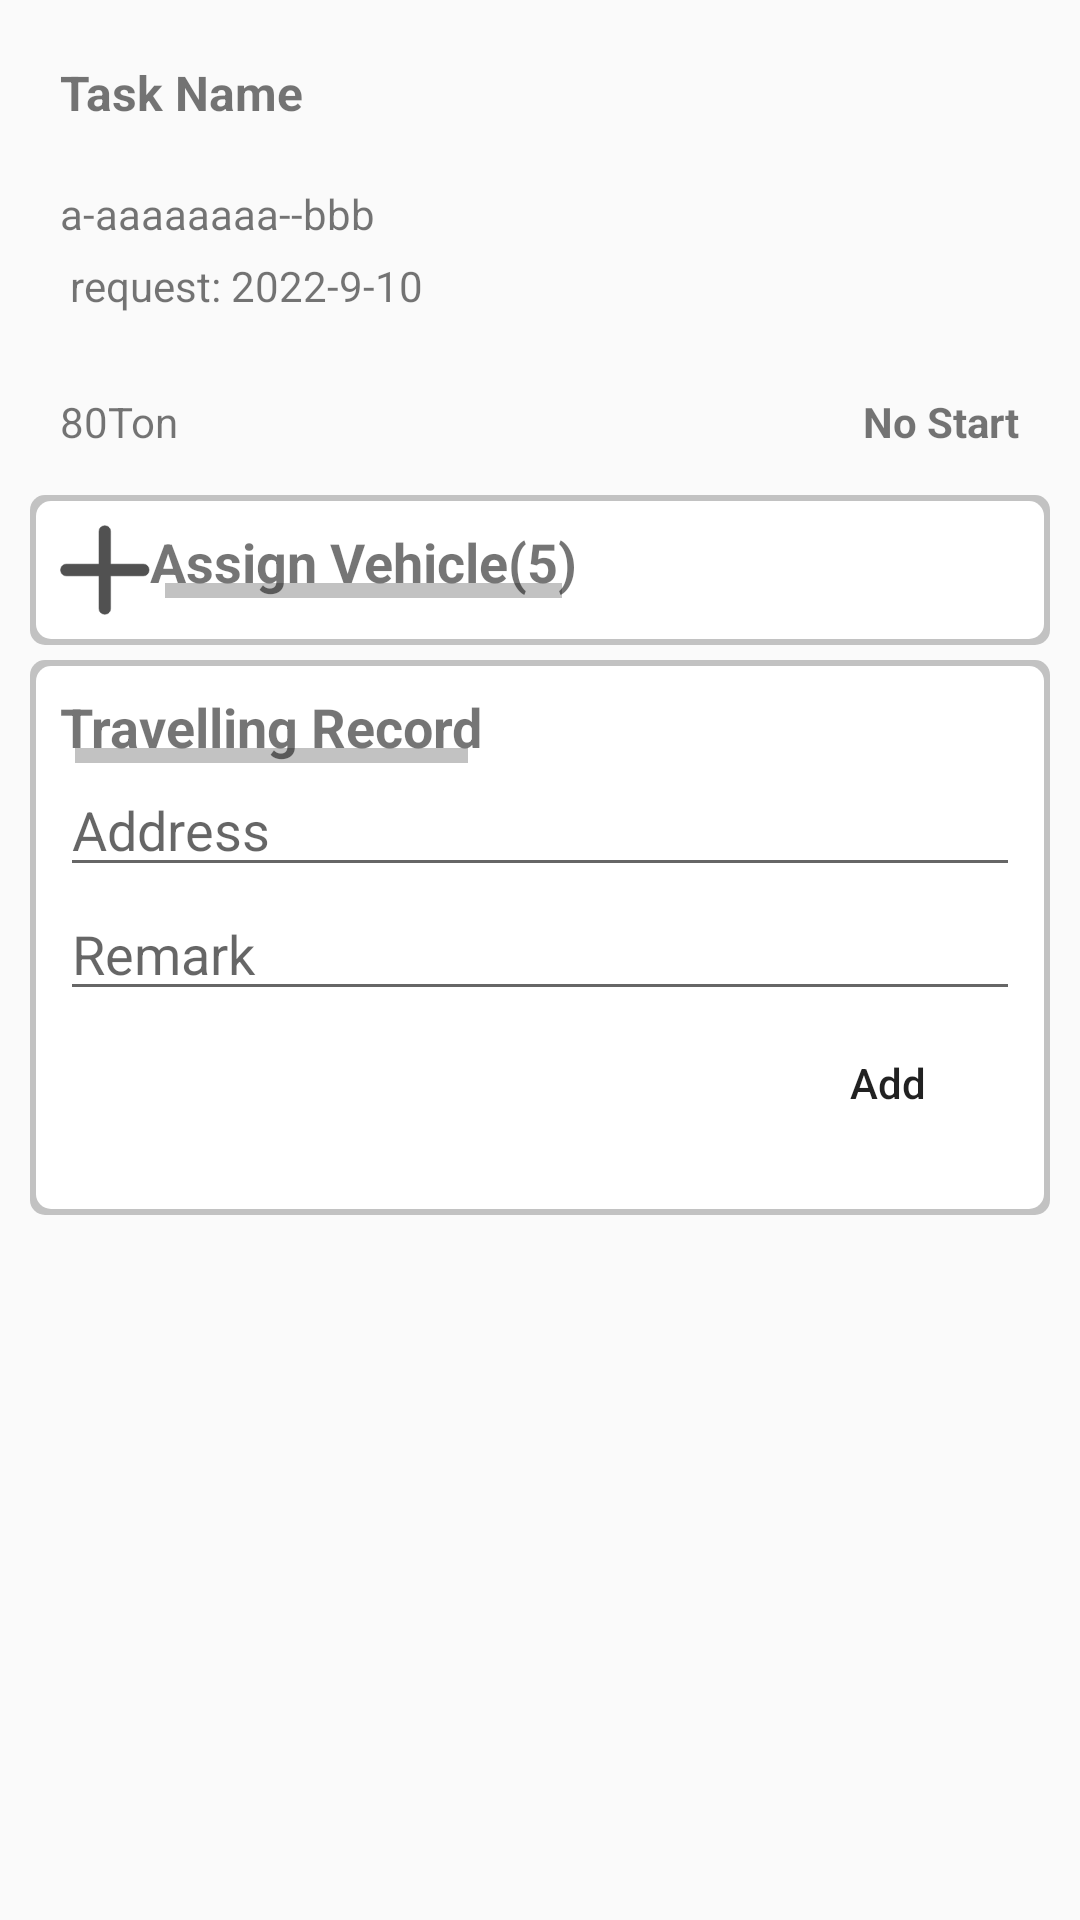

Icons on this 1080*1920 Android screen, each with its box as {"x1": x1, "y1": y1, "x2": x2, "y2": y2}:
add: {"x1": 60, "y1": 525, "x2": 150, "y2": 615}
